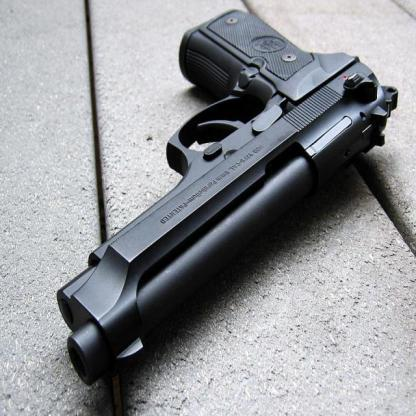weapon: (56, 9, 399, 387)
